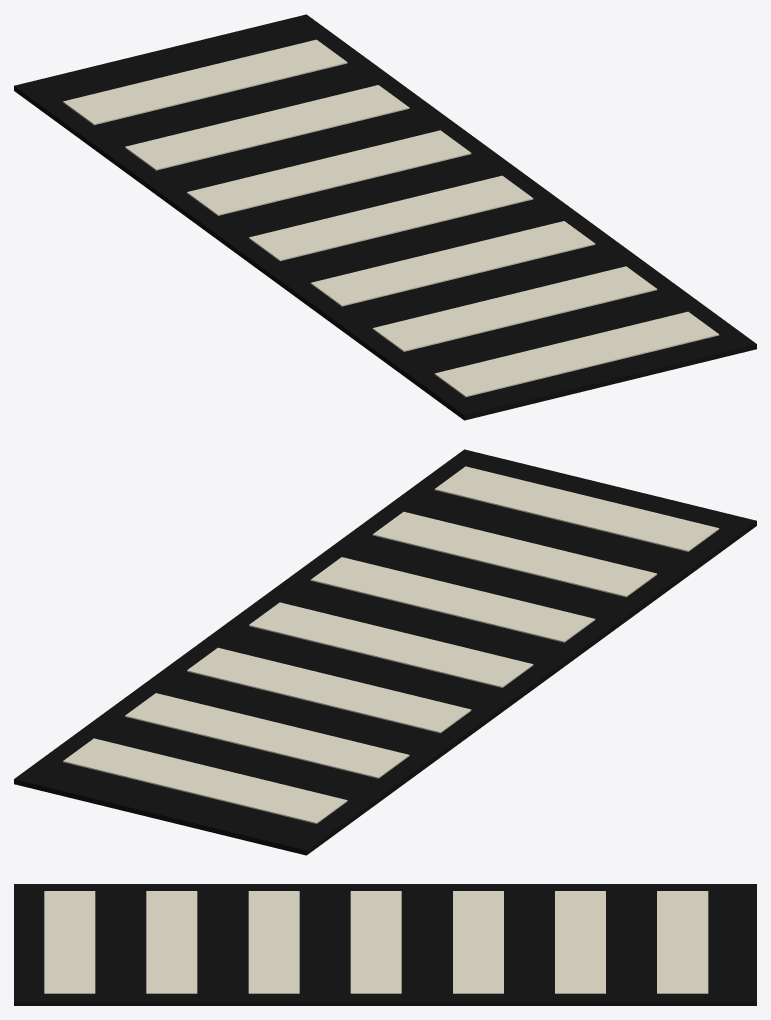
The model's file is KIT_Road_Crosswalk.glb.
3 views of the same model, one above another, from view 1: azimuth 30°, elevation 25°; view 2: azimuth 150°, elevation 25°; view 3: azimuth 270°, elevation 25° (orthographic). The views are drawn at different scales.
Parts seen in each view (by area): view 1: KIT_Road_Crosswalk; view 2: KIT_Road_Crosswalk; view 3: KIT_Road_Crosswalk.
Part boxes in pixels (<box>): KIT_Road_Crosswalk: <box>14,14,756,420</box>; KIT_Road_Crosswalk: <box>14,449,756,855</box>; KIT_Road_Crosswalk: <box>14,884,756,1005</box>.
Bounding box in the file's own units: 3 × 0.062 × 8.
